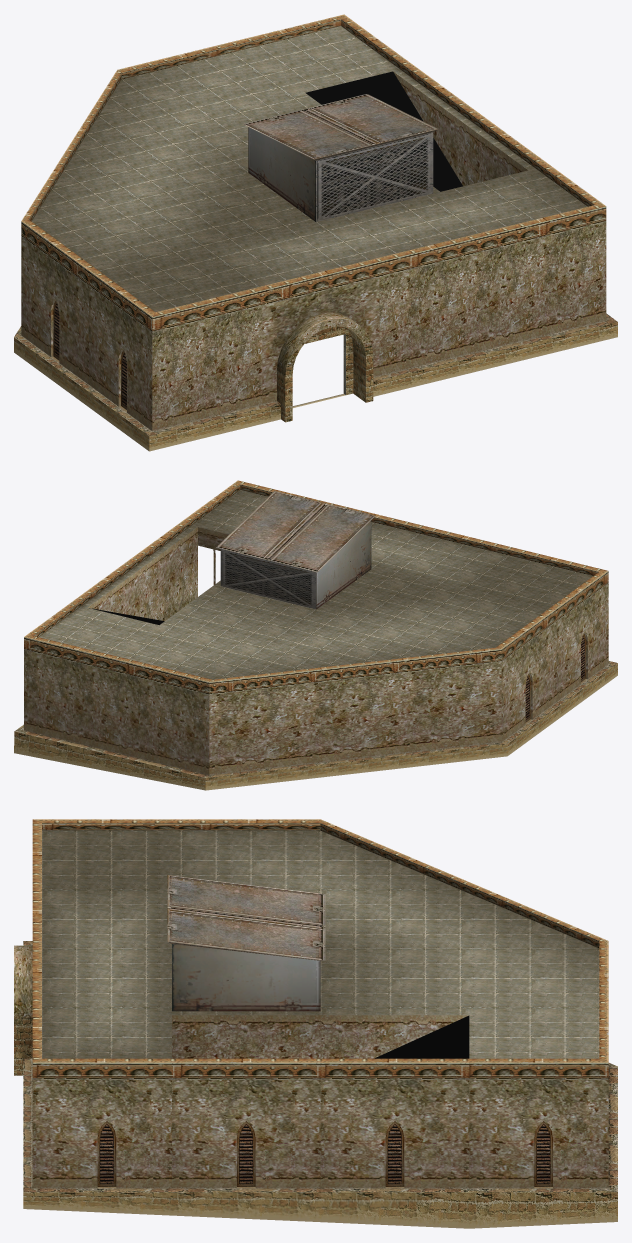
Rendered from Mission8_VillageBuilding01Ext.glb.
3 renders of one model, top to bottom at view 1: azimuth 30°, elevation 25°; view 2: azimuth 150°, elevation 25°; view 3: azimuth 270°, elevation 25°, orthographic. The views are drawn at different scales.
Visible parts, largest first — view 1: MISSION8_VILLAGEBUILDING01EXT; view 2: MISSION8_VILLAGEBUILDING01EXT; view 3: MISSION8_VILLAGEBUILDING01EXT.
Part boxes in pixels (x1=…): MISSION8_VILLAGEBUILDING01EXT: x1=14, y1=14, x2=617, y2=451; MISSION8_VILLAGEBUILDING01EXT: x1=14, y1=480, x2=617, y2=790; MISSION8_VILLAGEBUILDING01EXT: x1=14, y1=819, x2=617, y2=1228.
Size of the model in its own units: 16.02 by 6.71 by 16.25.
14 materials, 13 textured.
